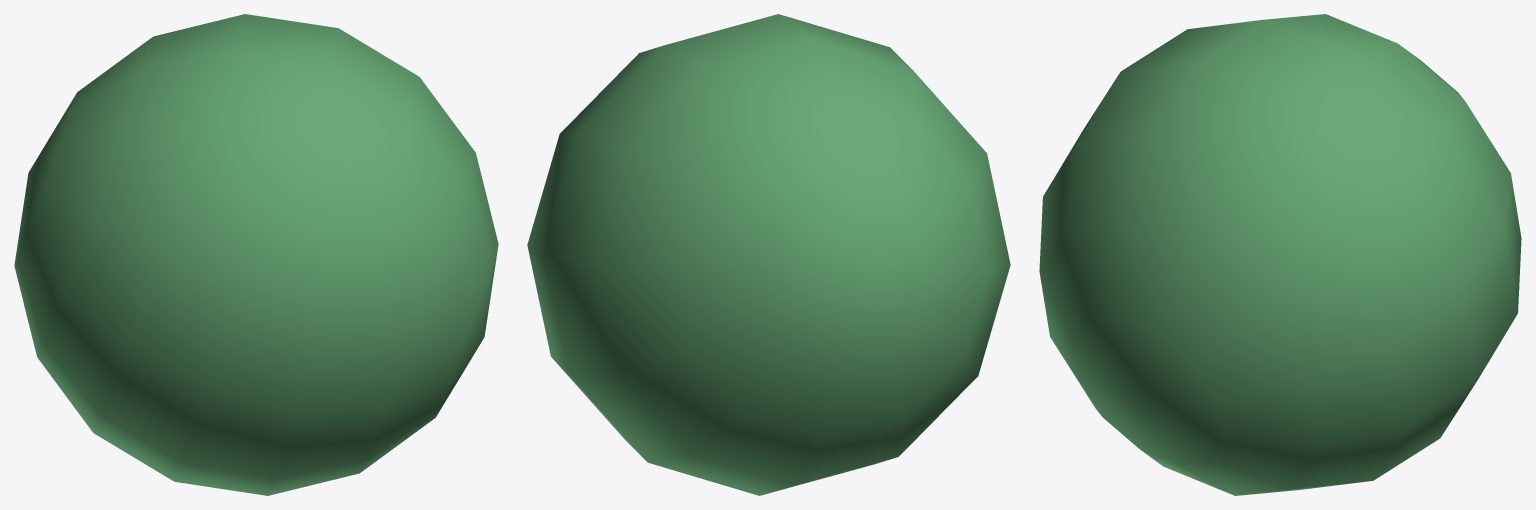
The picture shows the model from 3 angles, left to right: view 1: azimuth 30°, elevation 25°; view 2: azimuth 150°, elevation 25°; view 3: azimuth 270°, elevation 25°; orthographic projection.
Visible parts, largest first — view 1: 幽门后淋巴结; view 2: 幽门后淋巴结; view 3: 幽门后淋巴结.
Part boxes in pixels (x1,y1,x2,y2): 幽门后淋巴结: [14, 14, 498, 495]; 幽门后淋巴结: [527, 14, 1010, 495]; 幽门后淋巴结: [1039, 14, 1521, 495].
Bounding box in the file's own units: 0.00378 × 0.00377 × 0.00377.
